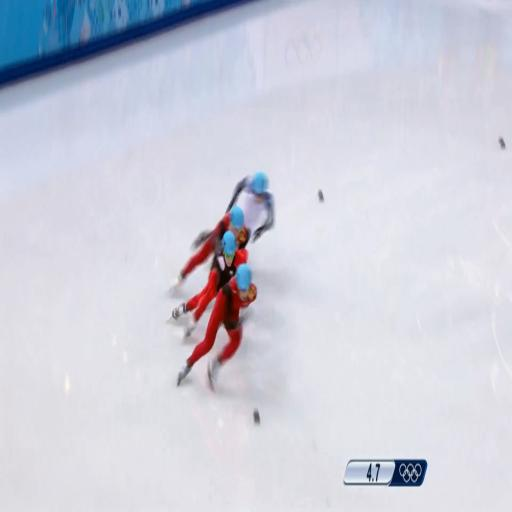Skater: (178, 264, 256, 389), (168, 231, 247, 337), (171, 206, 248, 291), (227, 172, 274, 241)
